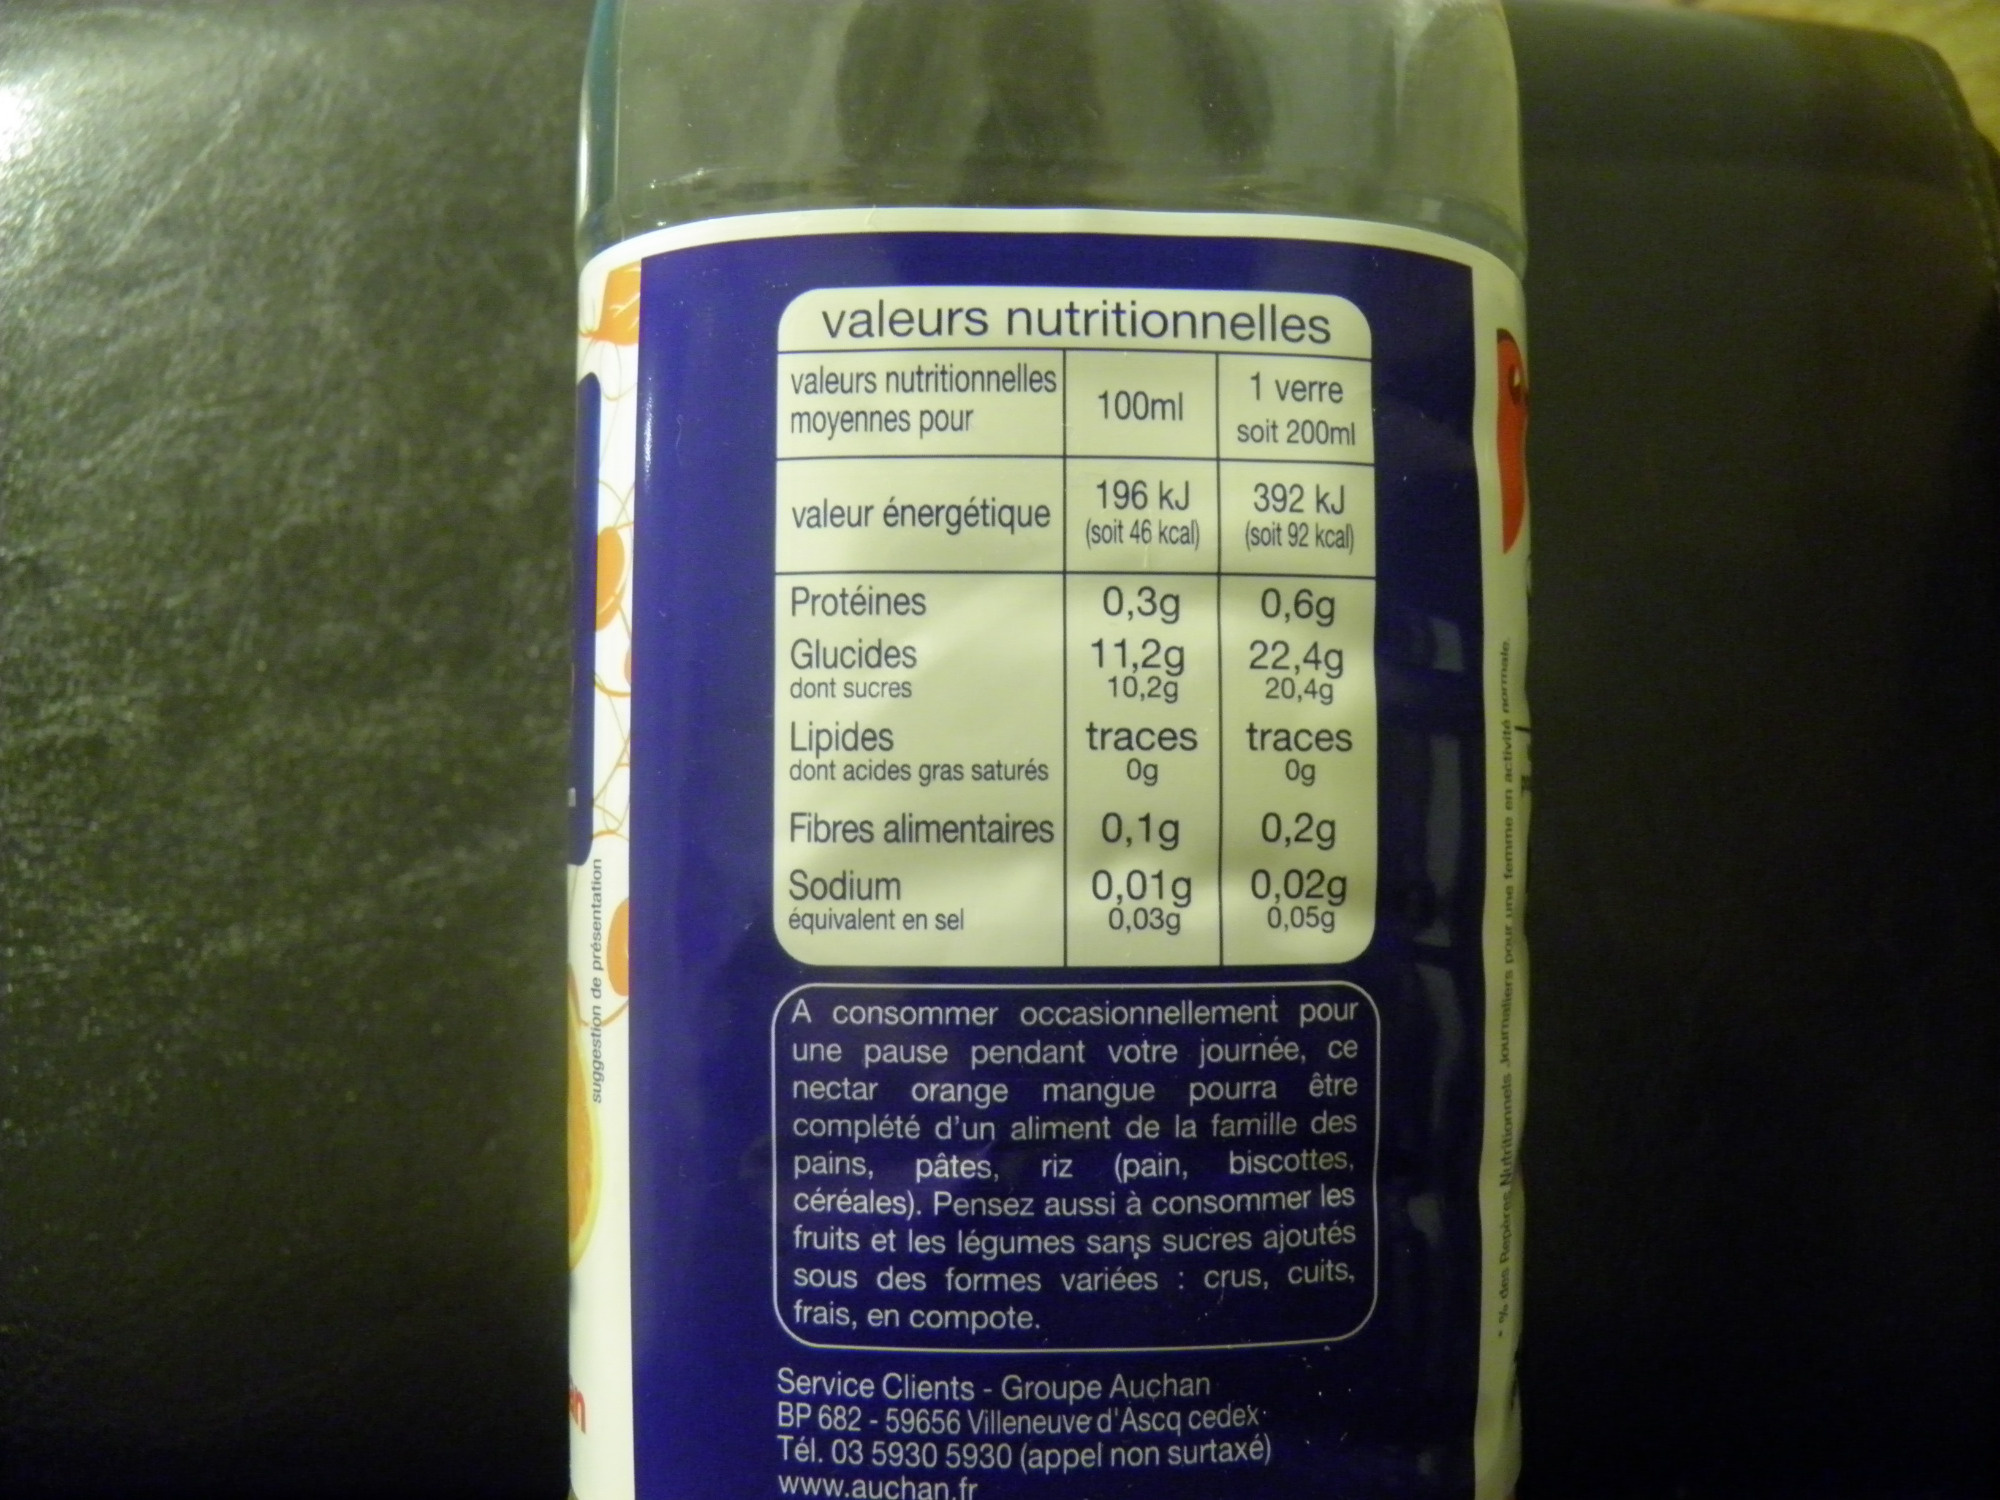column: (791, 362, 1054, 939), (1235, 372, 1356, 931), (1087, 389, 1209, 939)
table: (772, 287, 1376, 967)
